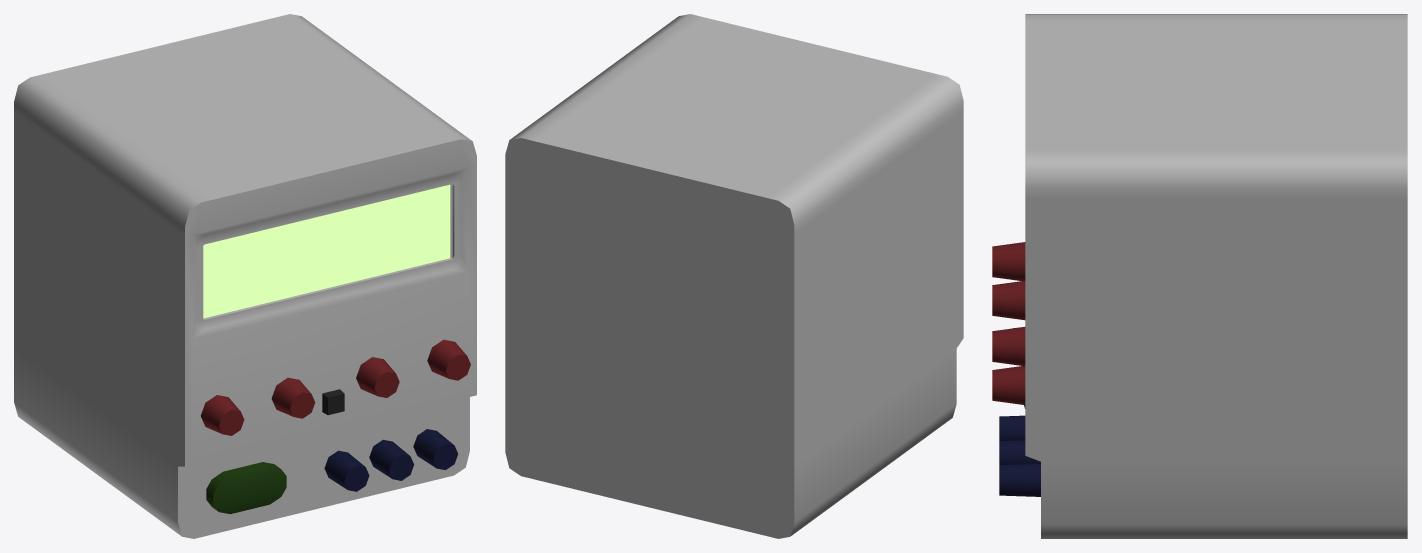
File: Fuente.fbx
The picture shows the model from 3 angles, left to right: view 1: azimuth 30°, elevation 25°; view 2: azimuth 150°, elevation 25°; view 3: azimuth 270°, elevation 25°; orthographic projection. The views are drawn at different scales.
Parts seen in each view (by area): view 1: Fuente.001, Fuente.002, Fuente.005, Fuente, Fuente.003; view 2: Fuente.001; view 3: Fuente.001, Fuente.005, Fuente.
Boxes of the visible parts, x1=… form: Fuente.001: x1=14, y1=14, x2=476, y2=538; Fuente.002: x1=203, y1=184, x2=450, y2=318; Fuente.005: x1=200, y1=339, x2=470, y2=435; Fuente: x1=324, y1=429, x2=457, y2=491; Fuente.003: x1=206, y1=462, x2=286, y2=514; Fuente.001: x1=505, y1=14, x2=963, y2=538; Fuente.001: x1=1025, y1=14, x2=1407, y2=538; Fuente.005: x1=992, y1=242, x2=1025, y2=404; Fuente: x1=999, y1=415, x2=1040, y2=496.
Size of the model in its own units: 28.34 by 31.7 by 31.27.
